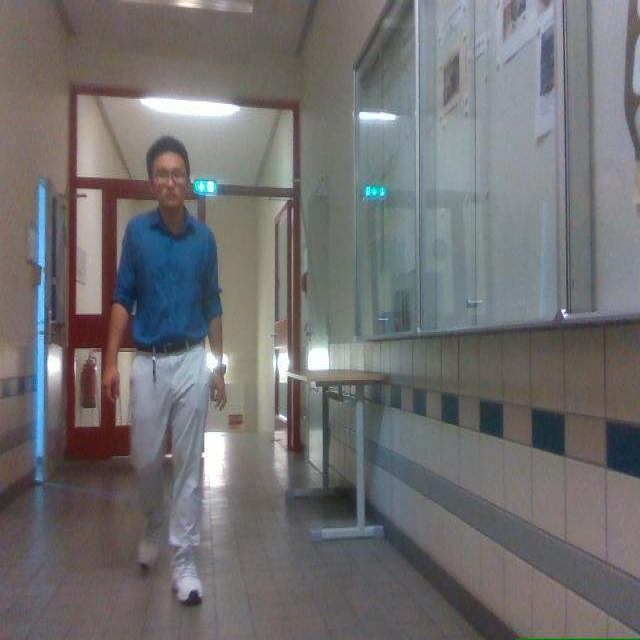humans: (103, 136, 225, 604)
objects: (288, 369, 387, 540)
